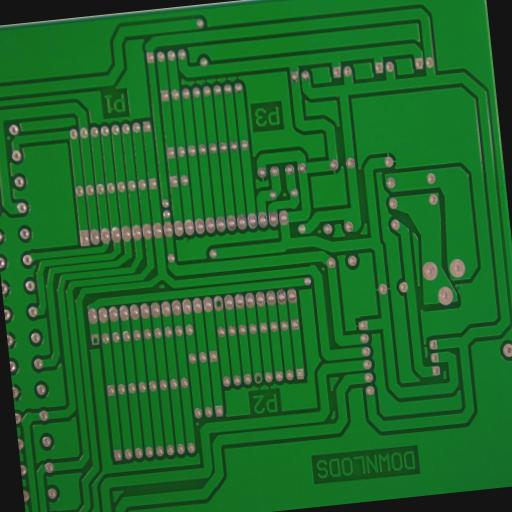missing_hole: (214, 297, 226, 312), (89, 334, 101, 348), (255, 372, 264, 387)
